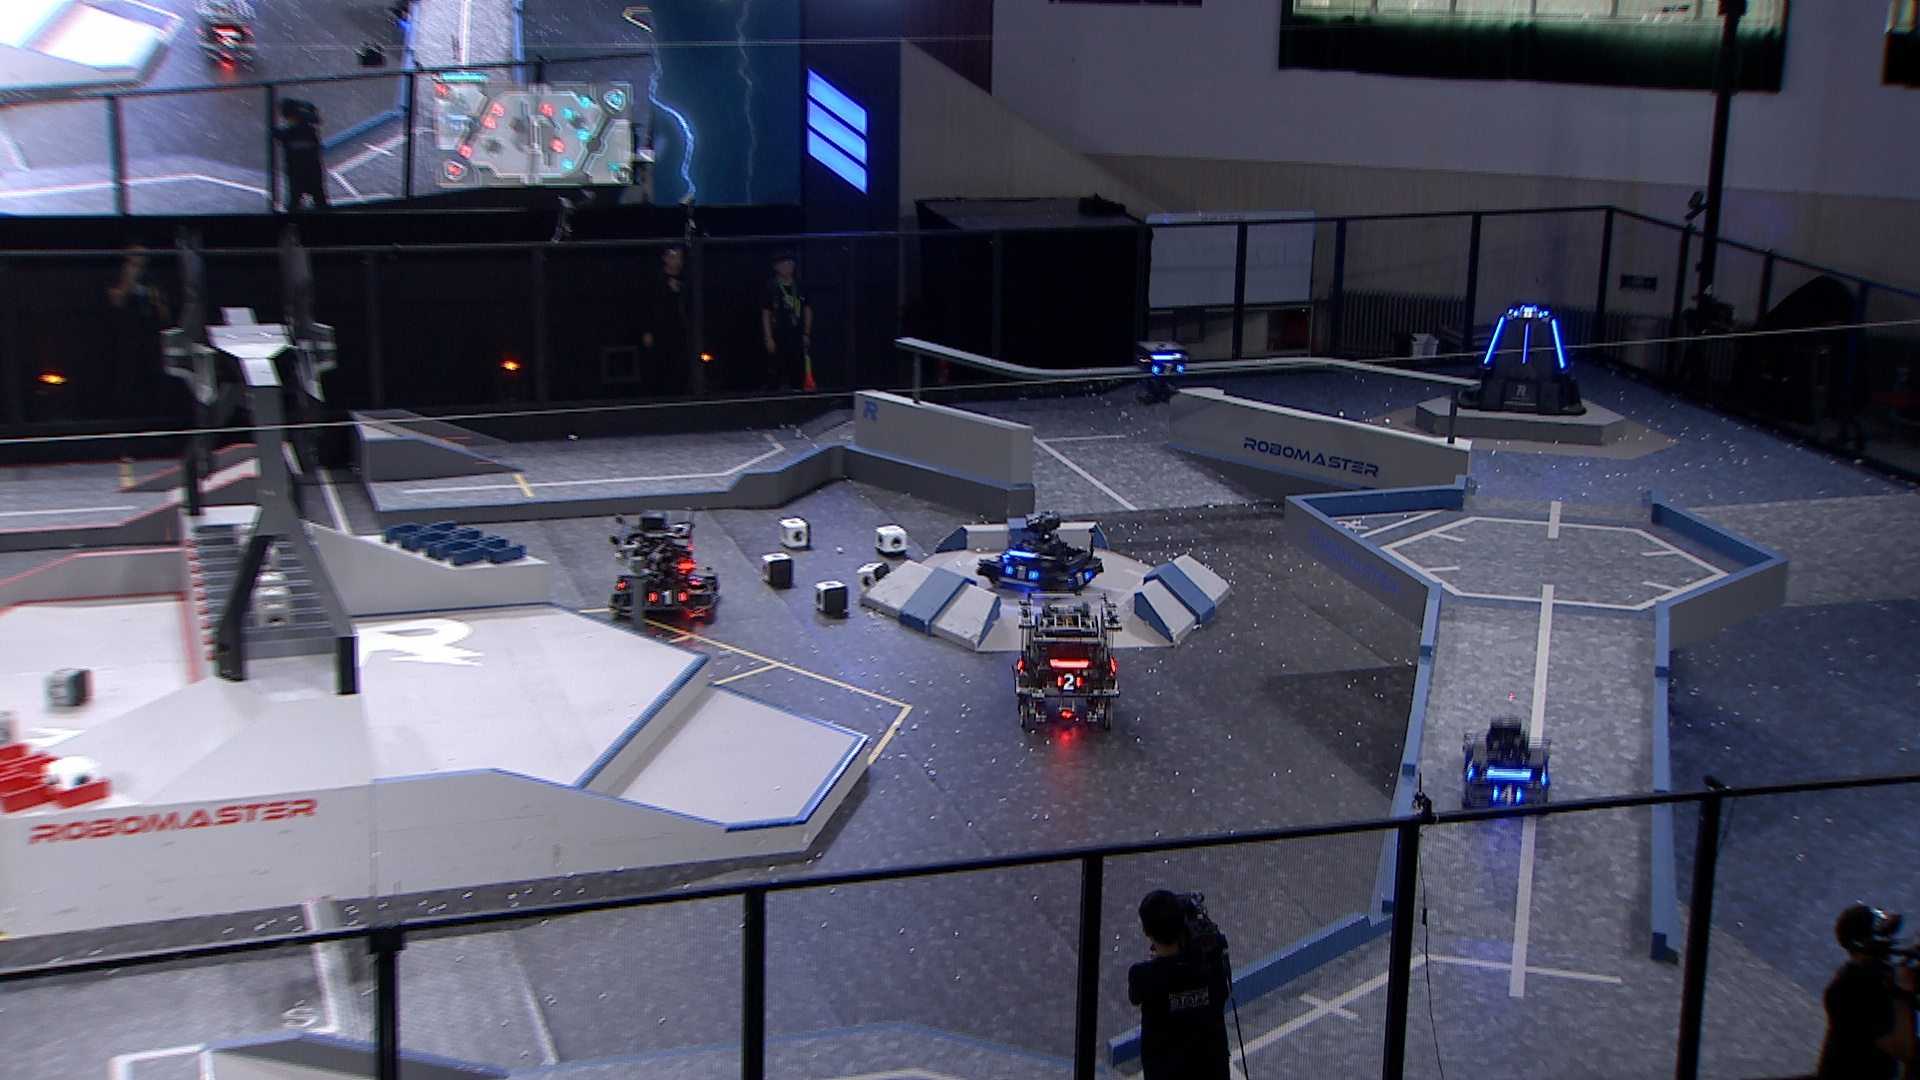armor: (1481, 315, 1509, 367), (1549, 316, 1569, 371), (646, 588, 688, 608), (1002, 562, 1039, 583), (1489, 785, 1524, 806), (1149, 360, 1185, 378), (1051, 673, 1083, 694), (1509, 306, 1545, 320), (1520, 323, 1532, 368), (1068, 570, 1093, 589), (1462, 757, 1477, 783), (684, 570, 704, 588)
base: (1456, 305, 1588, 414)
car: (1011, 597, 1122, 733), (607, 512, 721, 622), (973, 509, 1102, 599), (1460, 713, 1555, 818)
watcher: (1134, 342, 1188, 410)
